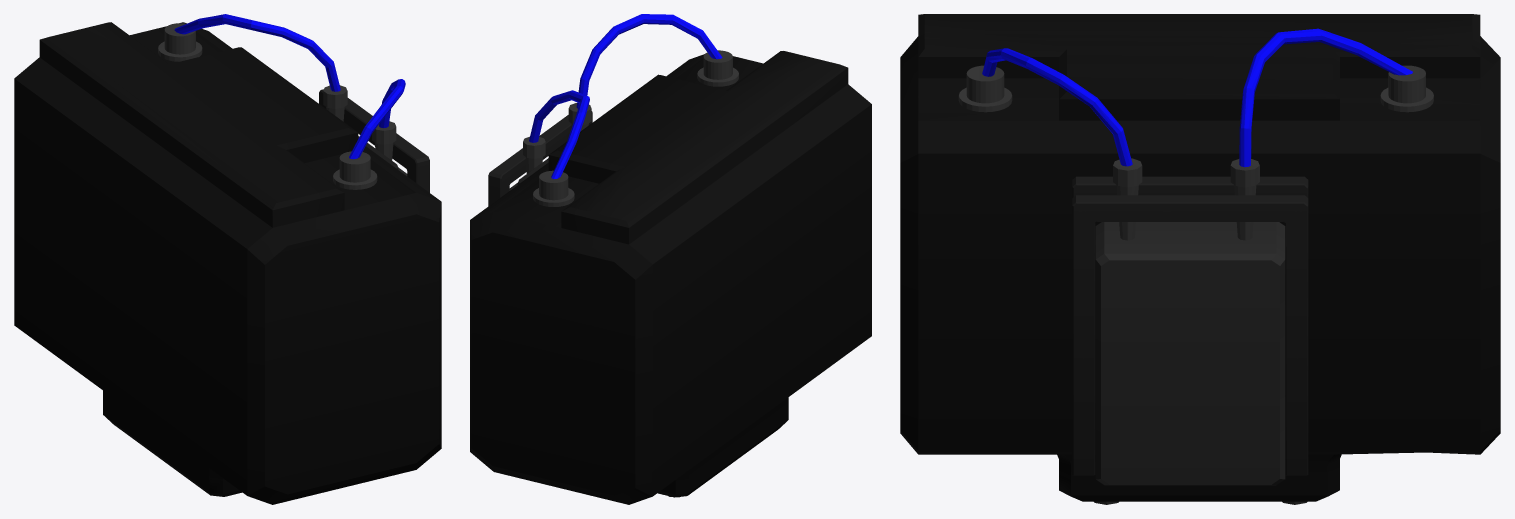
The model's file is Msh_Chamber_Battery.FBX.
3 views of the same model, side by side, from view 1: azimuth 30°, elevation 25°; view 2: azimuth 150°, elevation 25°; view 3: azimuth 270°, elevation 25° (orthographic). The views are drawn at different scales.
Parts seen in each view (by area): view 1: BatteryChamber; view 2: BatteryChamber; view 3: BatteryChamber.
Part boxes in pixels (x1,y1,x2,y2): BatteryChamber: (14,14,441,504); BatteryChamber: (470,14,871,504); BatteryChamber: (900,14,1500,504).
Size of the model in its own units: 7.54 by 12.68 by 11.01.
